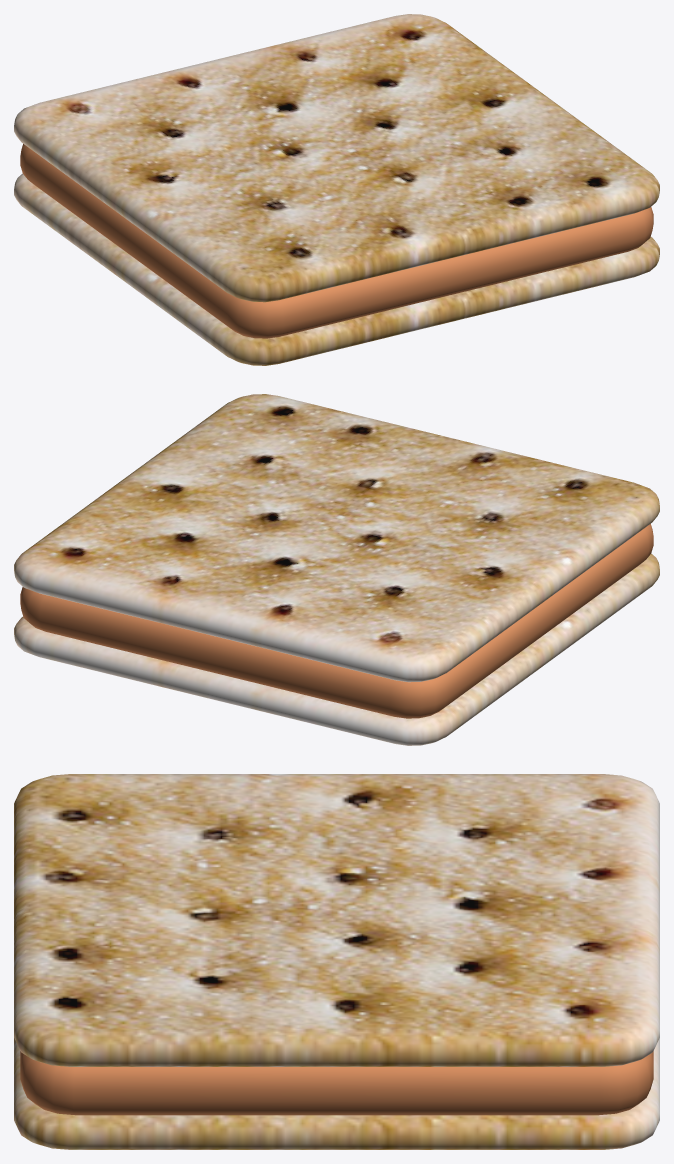
File: candy_waf_28.fbx
3 views of the same model, one above another, from view 1: azimuth 30°, elevation 25°; view 2: azimuth 150°, elevation 25°; view 3: azimuth 270°, elevation 25° (orthographic). The views are drawn at different scales.
Parts seen in each view (by area): view 1: c_w_28; view 2: c_w_28; view 3: c_w_28.
Boxes of the visible parts, x1,y1,x2,y2 form: c_w_28: (14,14,659,365); c_w_28: (14,394,659,745); c_w_28: (14,774,659,1149).
Bounding box in the file's own units: 179 × 35.68 × 179.
